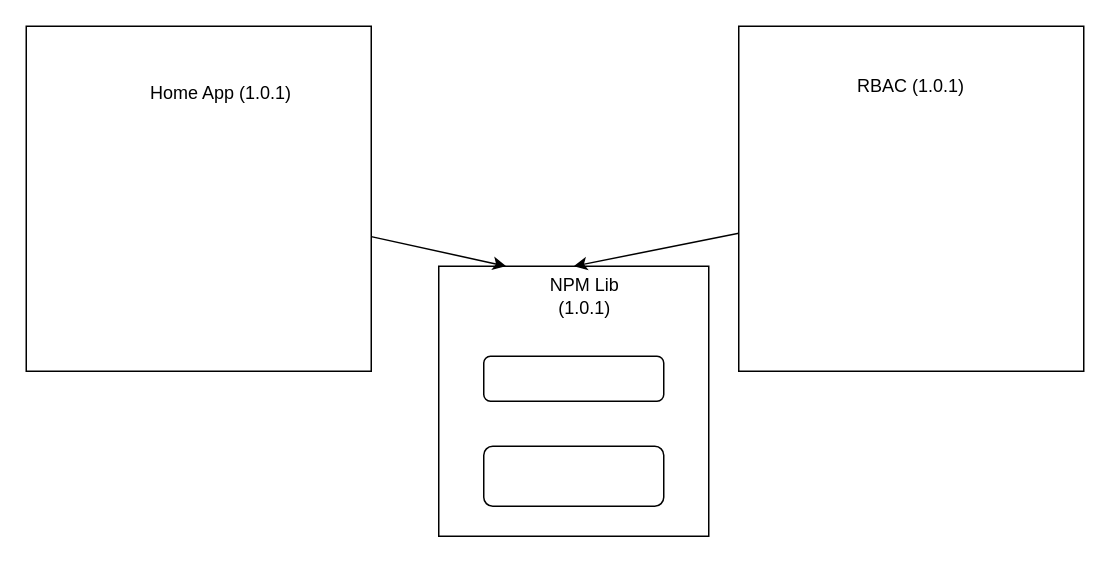
The diagram is 1110 pixels wide and 563 high, and some of its shapes have lost their labels. The centre of each missing label's shape, as x and y in pixels:
Footer: point (573, 475)
Header: point (573, 378)
